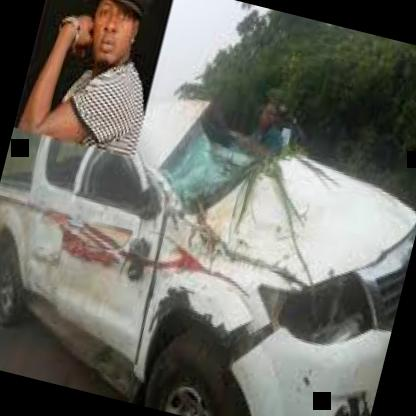accident: (0, 58, 416, 416)
